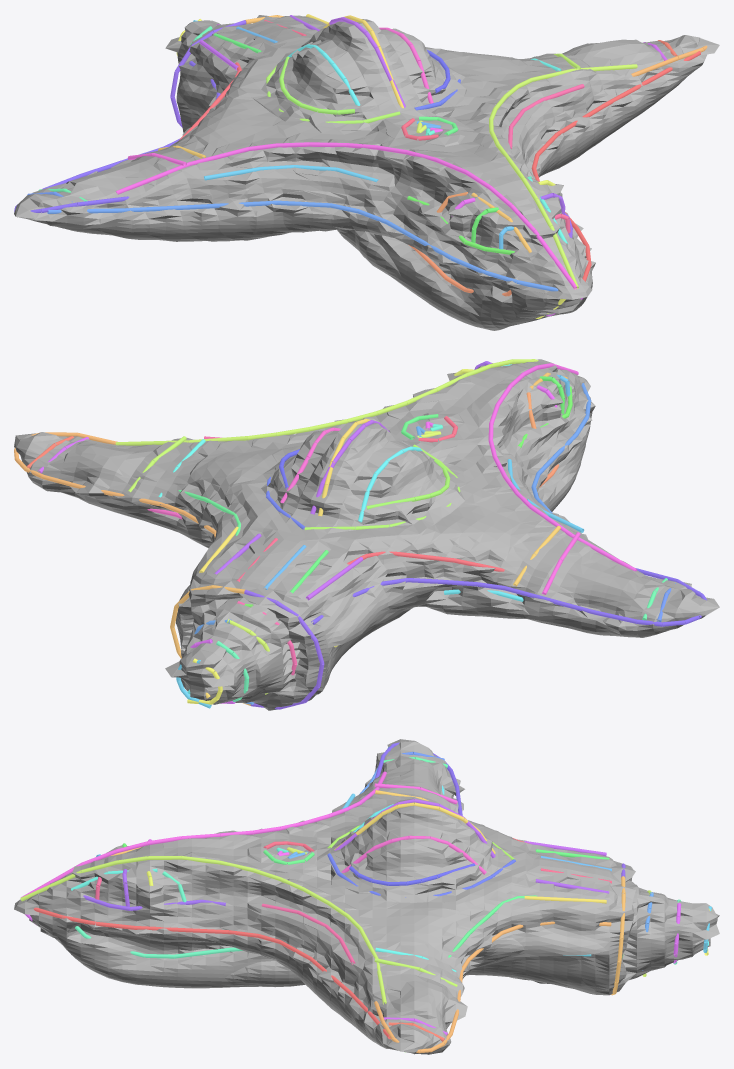
Rendered from author1_ship.gltf.
3 renders of one model, top to bottom at view 1: azimuth 30°, elevation 25°; view 2: azimuth 150°, elevation 25°; view 3: azimuth 270°, elevation 25°, orthographic. The views are drawn at different scales.
Size of the model in its own units: 0.7276 by 0.2011 by 0.6949.
